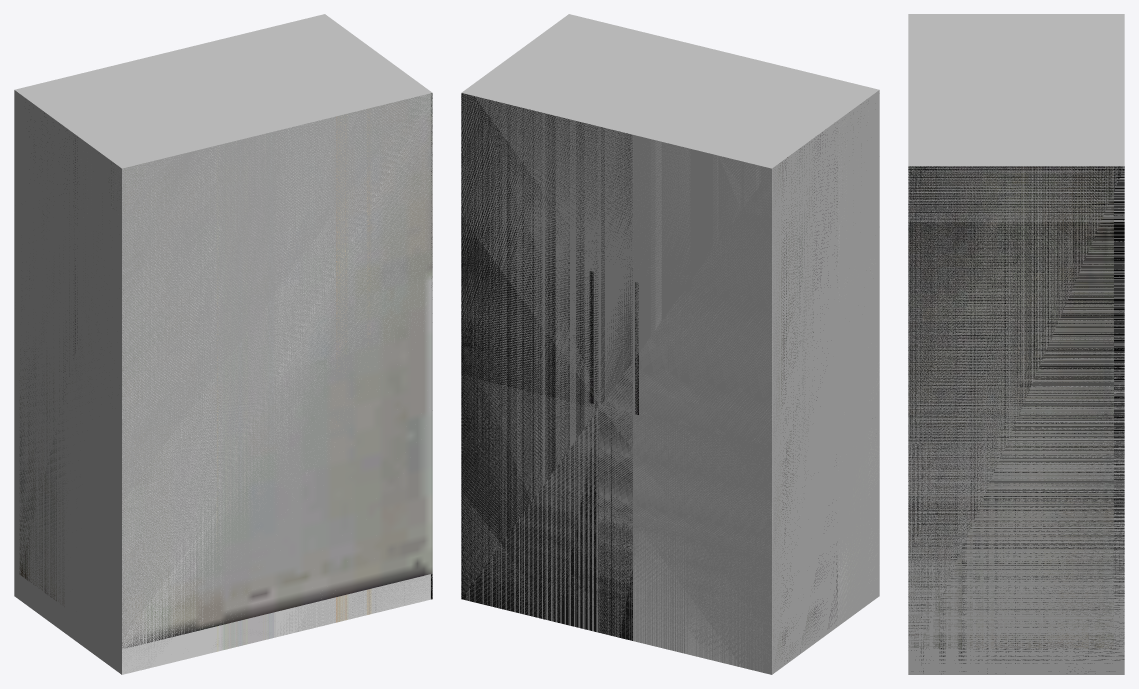
Rendered from pantry_01.DAE.
3 views of the same model, side by side, from view 1: azimuth 30°, elevation 25°; view 2: azimuth 150°, elevation 25°; view 3: azimuth 270°, elevation 25° (orthographic).
Visible parts, largest first — view 1: bounds, pantry_one100, colbox-1; view 2: bounds, colbox-1, pantry_one100; view 3: bounds, pantry_one100, colbox-1.
Boxes of the visible parts, x1,y1,x2,y2 form: bounds: [14, 14, 432, 674]; pantry_one100: [19, 93, 432, 648]; colbox-1: [31, 93, 432, 674]; bounds: [461, 14, 879, 674]; colbox-1: [461, 93, 878, 671]; pantry_one100: [589, 118, 872, 418]; bounds: [908, 14, 1124, 674]; pantry_one100: [908, 166, 1113, 648]; colbox-1: [908, 166, 1124, 673].
Bounding box in the file's own units: 143 × 85.97 × 223.
